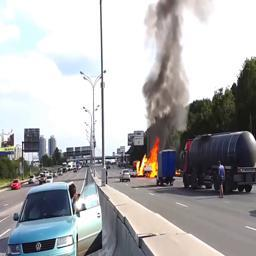fire: (136, 137, 159, 177)
